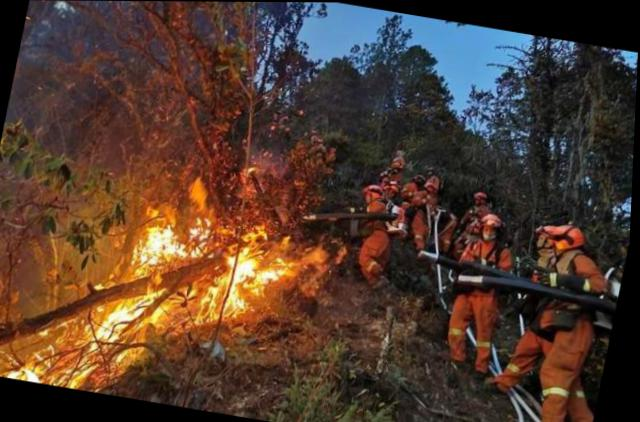fire: (3, 186, 310, 418)
